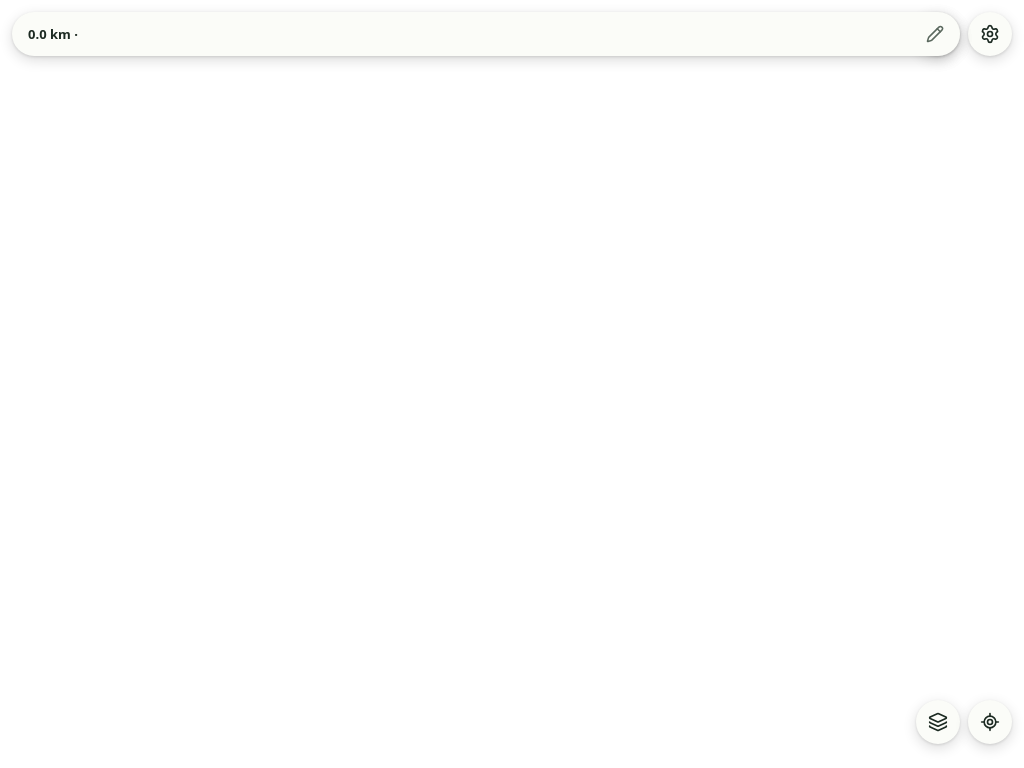
Test case: CriteriaView › criteria › where the server cannot route › disables the search, and says why without the coordinates
The image size is (1024, 768).
Click the button with test id "criteria-bar": (53, 34) [12,12,960,56]
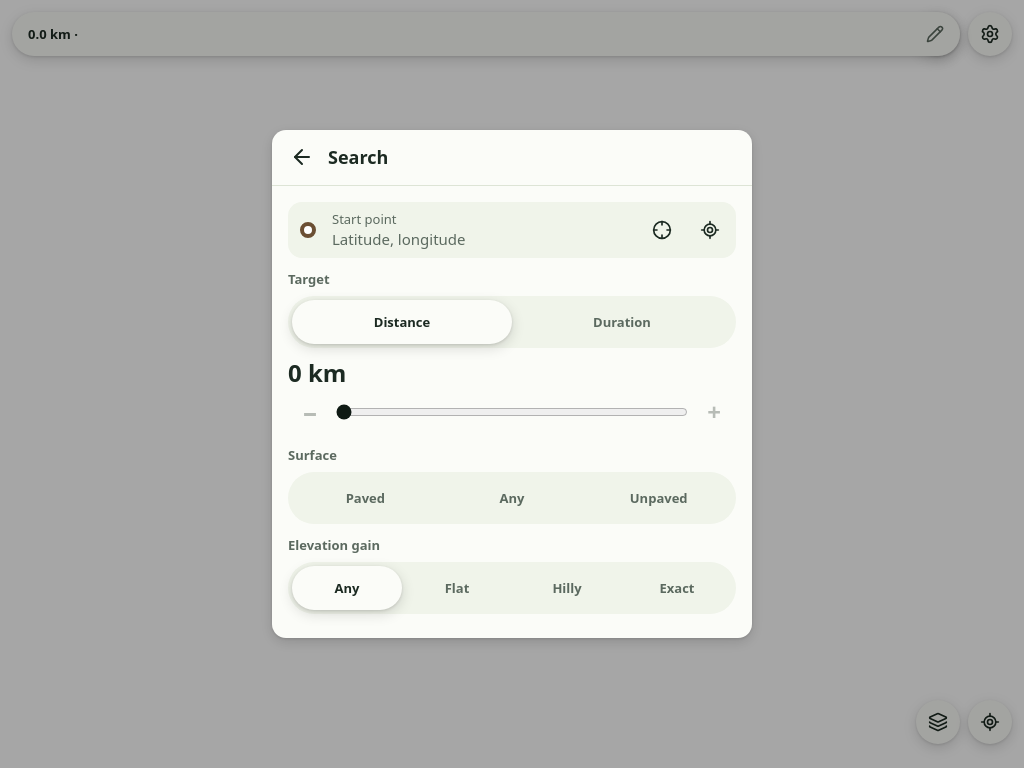
In the field with test id "criteria-start": (478, 239) [332,228,624,250], type "48.8, 2.3"
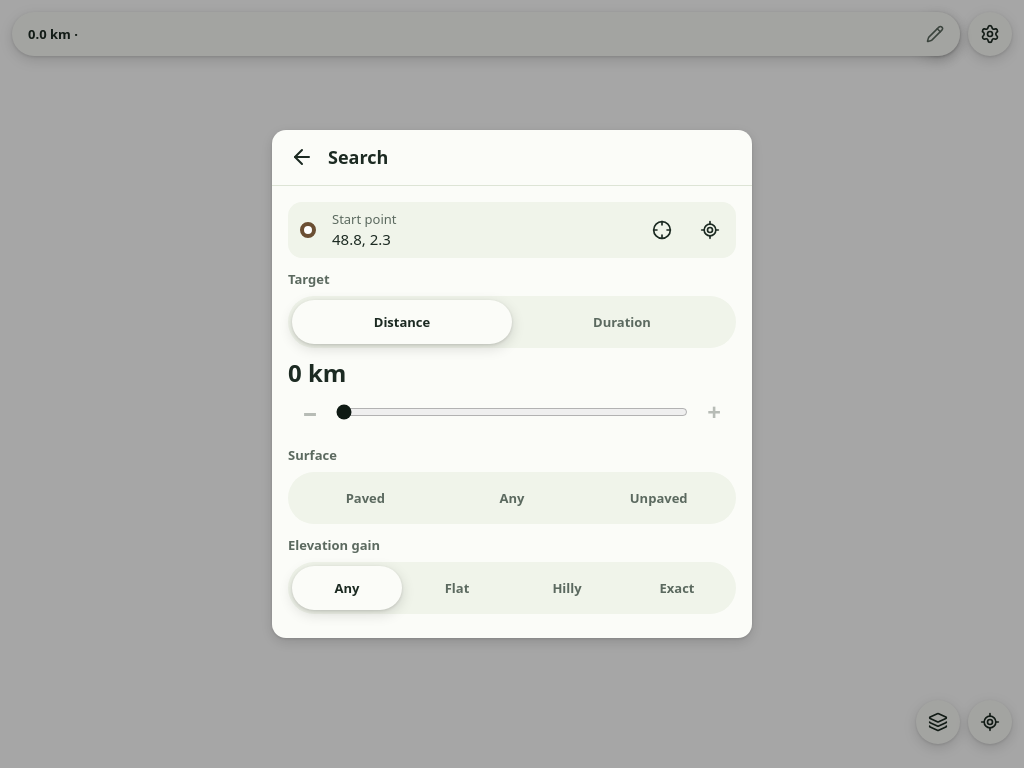
Press Enter in the field with test id "criteria-start", box [332,228,624,250]
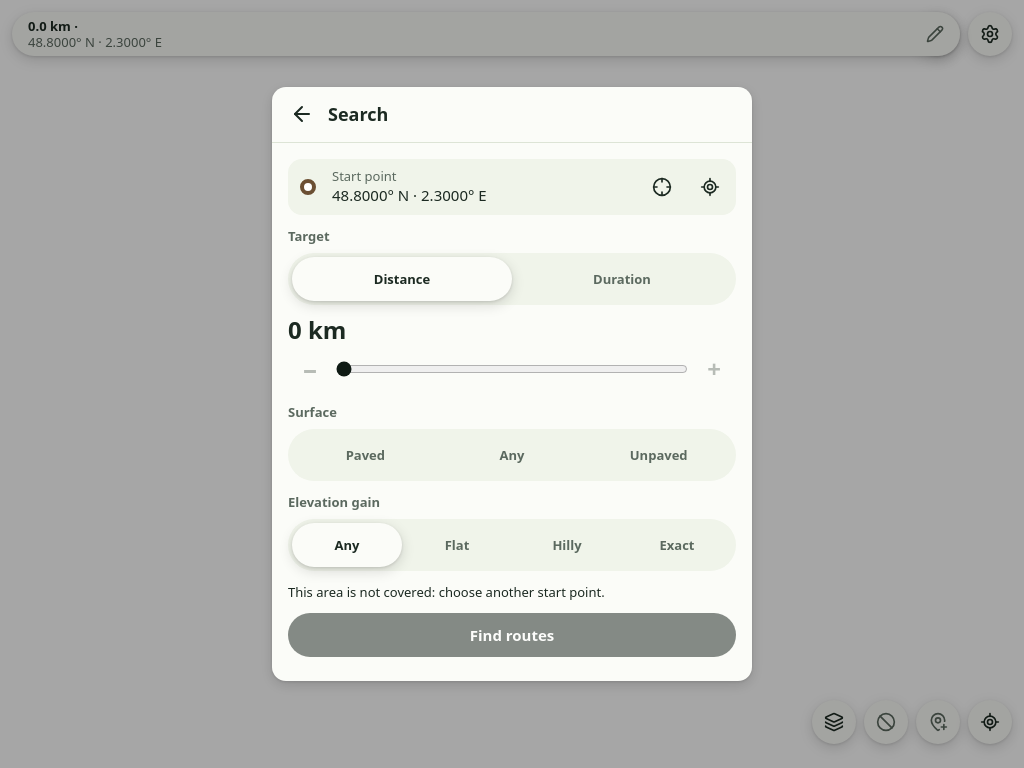
Expected: the button with test id "criteria-submit" is disabled, [288,613,736,657]
Expected: the message with test id "criteria-uncovered" reads "This area is not covered: choose another start point.", [288,583,605,601]
